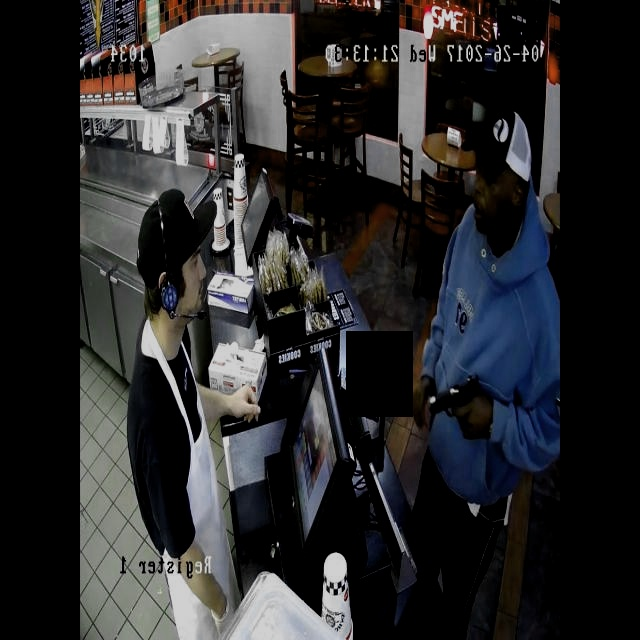gun: (416, 367, 494, 427)
